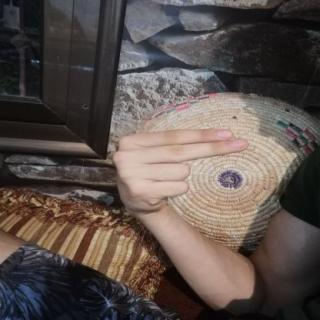AYN: (98, 119, 260, 219)
